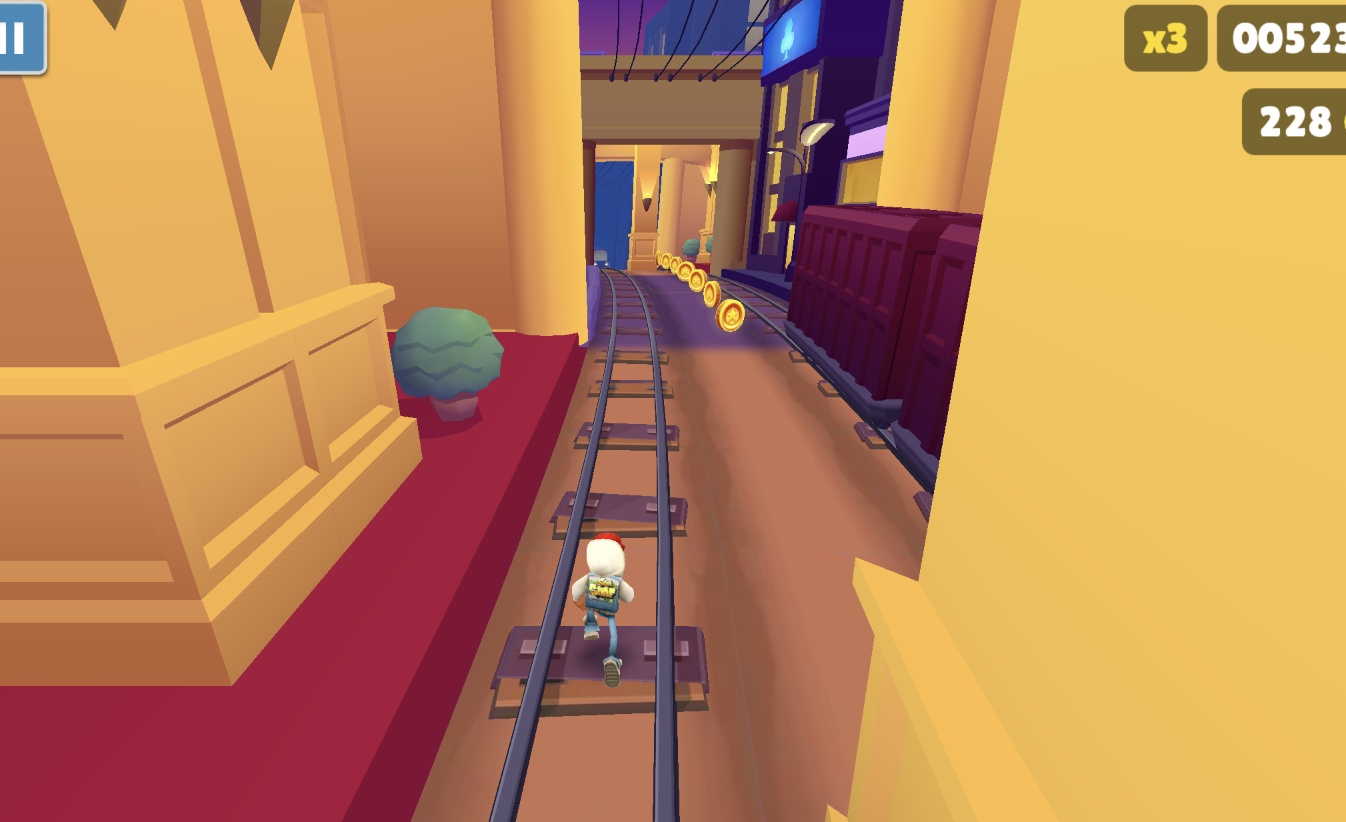pillar: (824, 0, 1346, 822), (626, 146, 668, 274)
train: (778, 202, 990, 474)
